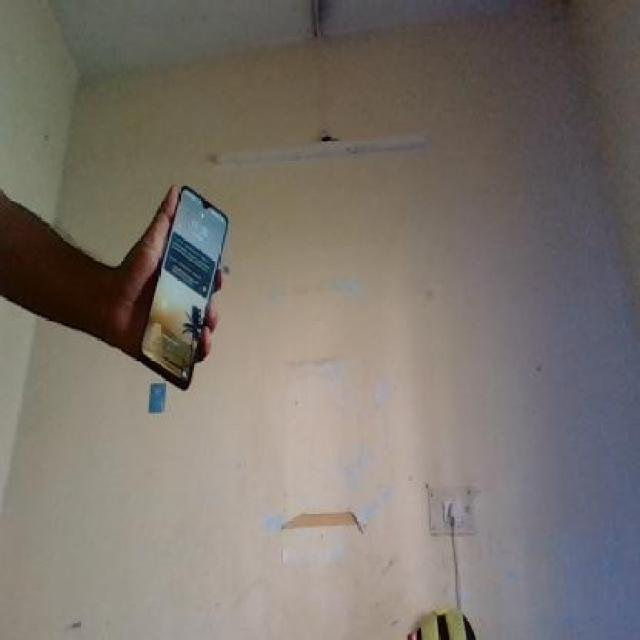Phone: (128, 181, 233, 394)
